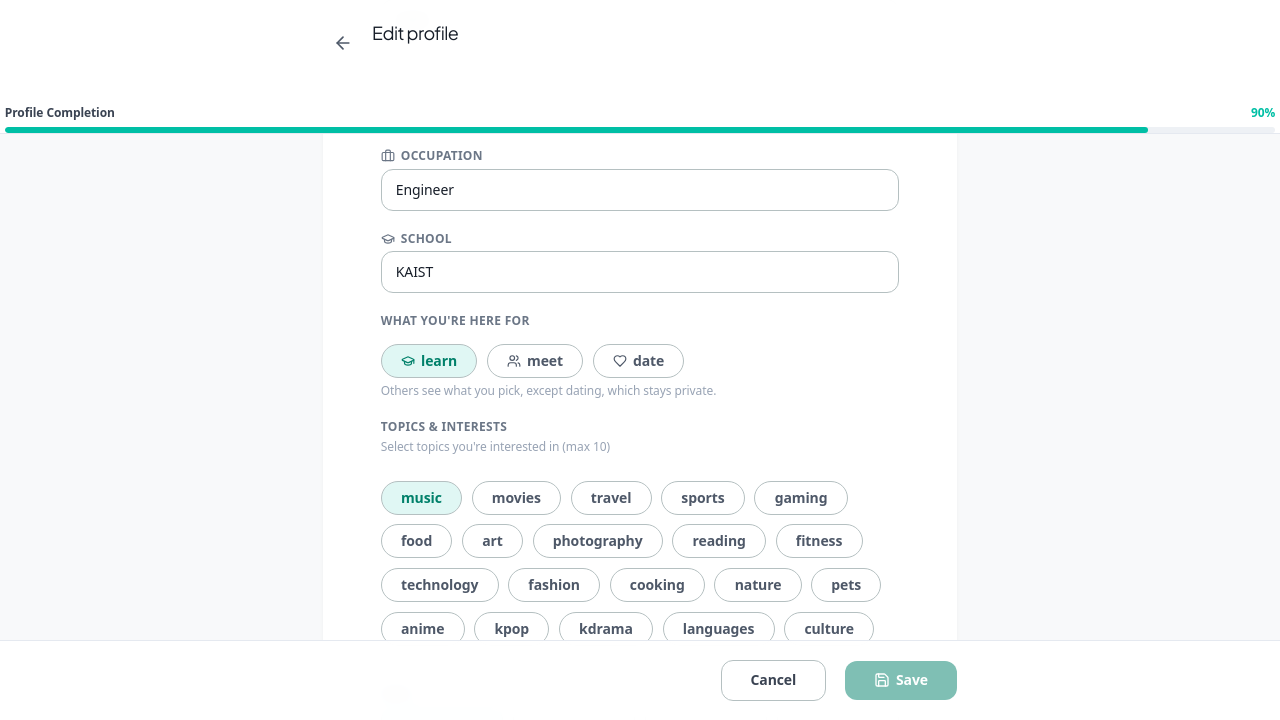
Test: saving › intents › counts as a change, and as no change when put back
(page scrolled)
Check: the button with test id "edit-save" is disabled, box [845,661,957,700]
Click the button with test id "edit-intent-meet" at coordinates (535, 361), box [487,344,583,378]
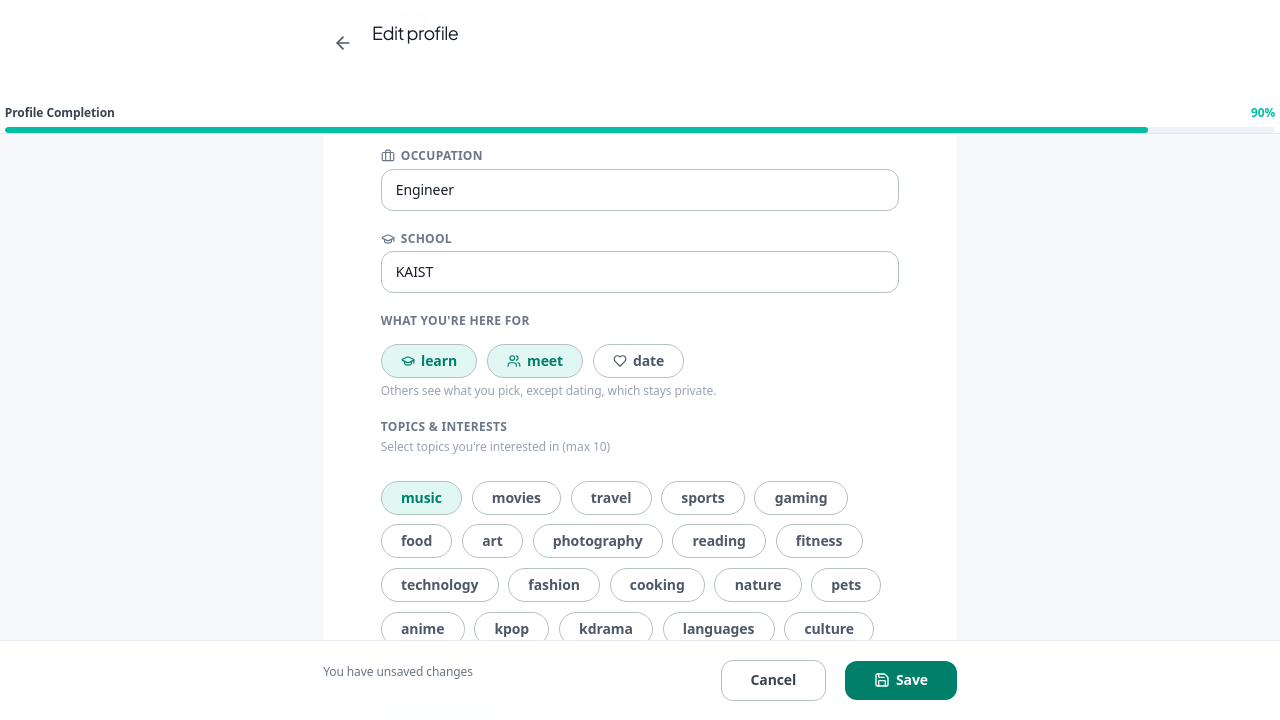
Check: the button with test id "edit-save" is enabled, box [845,661,957,700]
Click the button with test id "edit-intent-meet" at coordinates (535, 361), box [487,344,583,378]
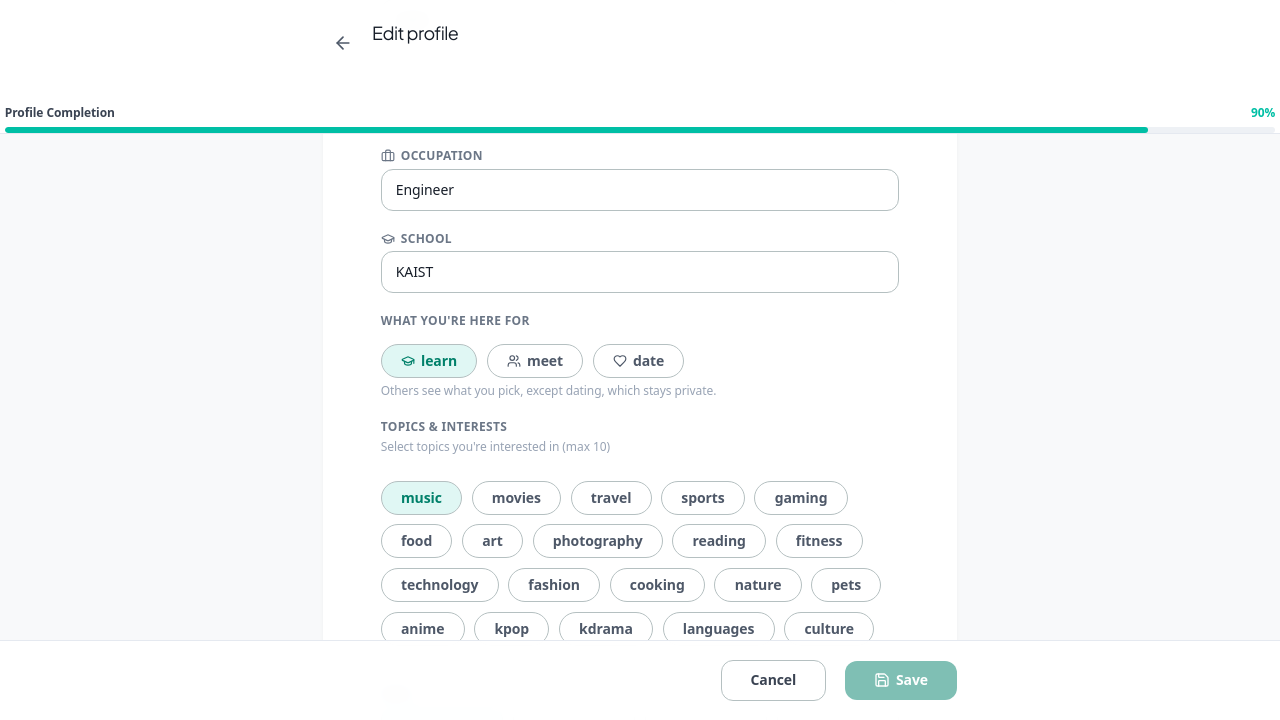
Check: the button with test id "edit-save" is disabled, box [845,661,957,700]
